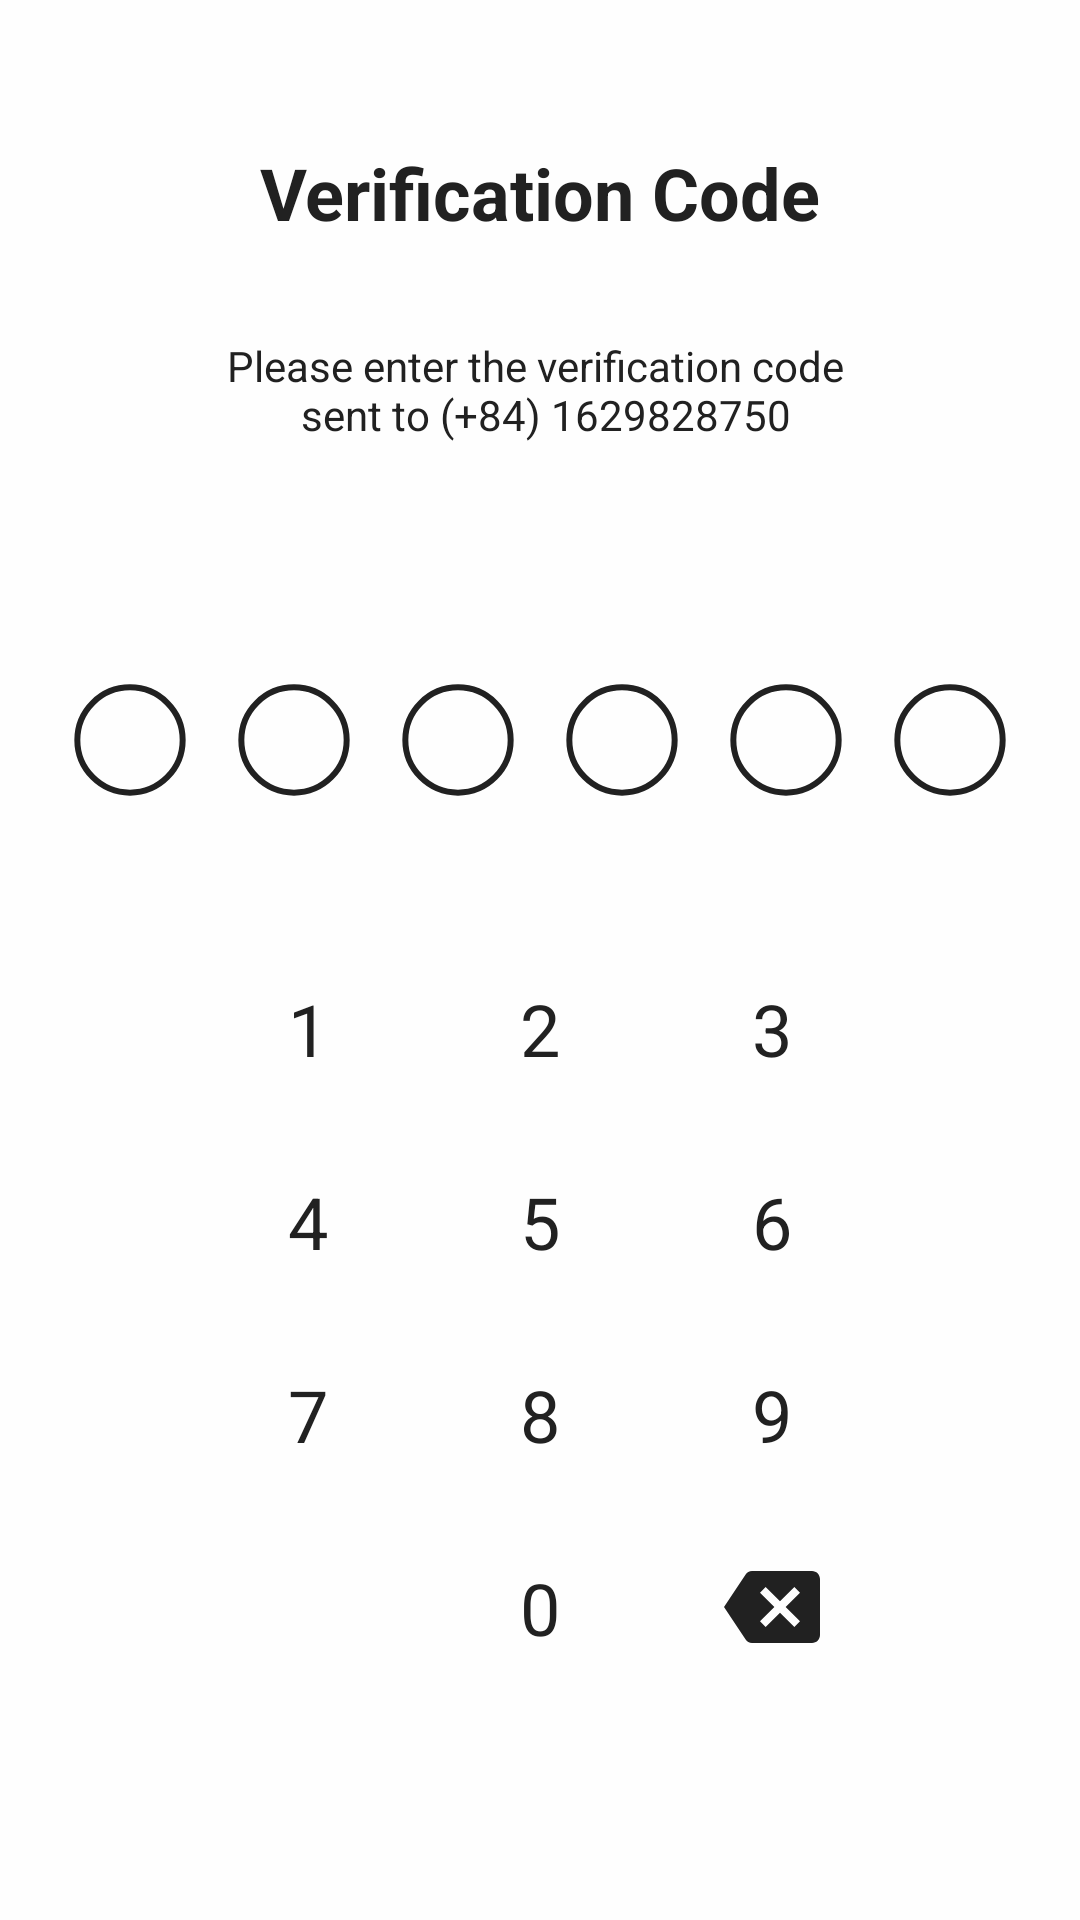

Point at icon controls on the screen. Image size 1080*1920, points as point (x, y).
backspace: point (772, 1607)
